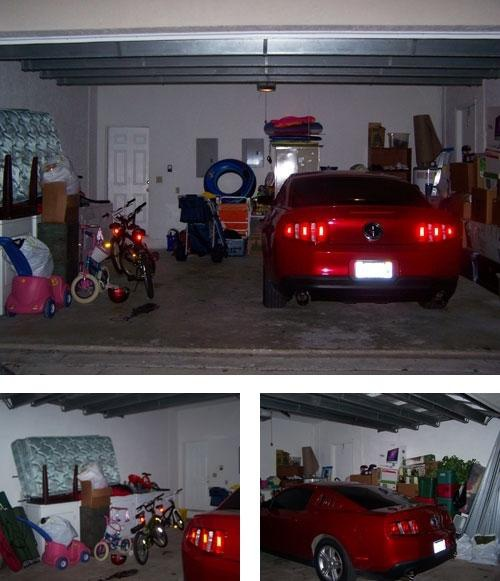non-vehicle: (108, 200, 157, 299), (70, 219, 112, 307), (129, 492, 169, 567), (102, 197, 136, 274), (92, 512, 131, 563), (149, 488, 185, 534)
